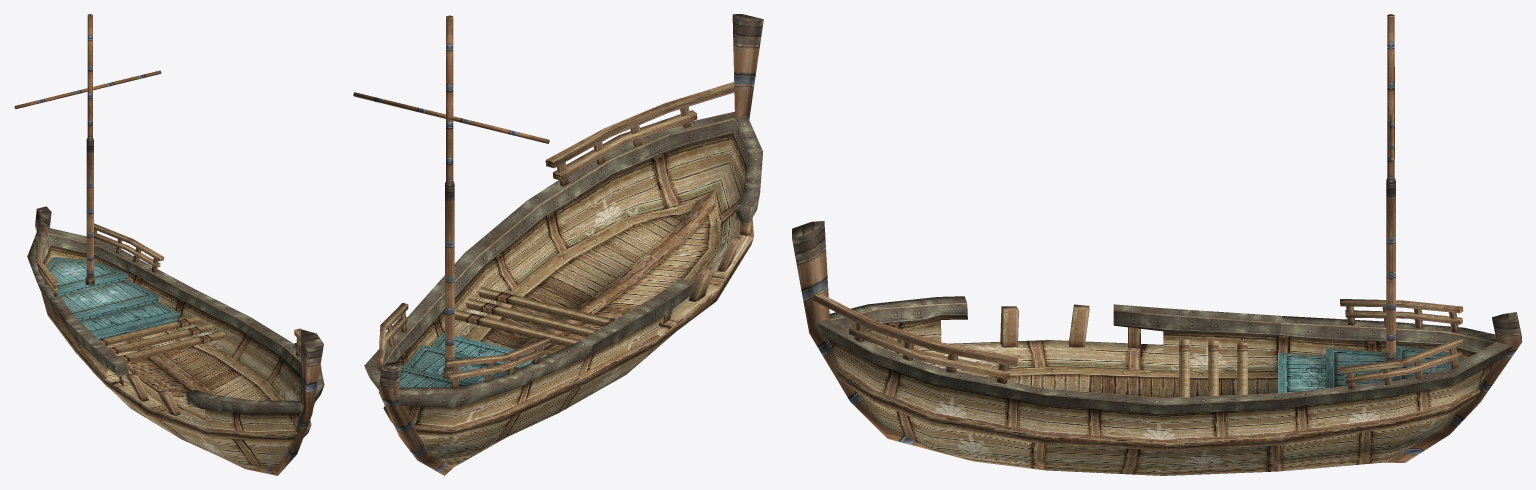
3 renders of one model, left to right at view 1: azimuth 30°, elevation 25°; view 2: azimuth 150°, elevation 25°; view 3: azimuth 270°, elevation 25°, orthographic. The views are drawn at different scales.
Parts seen in each view (by area): view 1: geom_node_1, geom_node_0, geom_node_2, geom_node_3; view 2: geom_node_2, geom_node_1, geom_node_0, geom_node_3; view 3: geom_node_1, geom_node_0, geom_node_2, geom_node_3.
Part boxes in pixels (<box>): geom_node_1: <box>65,289,293,437</box>; geom_node_0: <box>27,141,193,371</box>; geom_node_2: <box>147,328,324,475</box>; geom_node_3: <box>14,14,161,142</box>; geom_node_2: <box>527,14,763,300</box>; geom_node_1: <box>420,201,718,412</box>; geom_node_0: <box>364,186,592,475</box>; geom_node_3: <box>353,15,549,187</box>; geom_node_1: <box>1044,304,1281,475</box>; geom_node_0: <box>1278,183,1521,471</box>; geom_node_2: <box>792,221,1053,470</box>; geom_node_3: <box>1386,14,1395,183</box>.
Size of the model in its own units: 5.77 by 12.38 by 17.77.
Materials: 7 (7 with a texture image).
